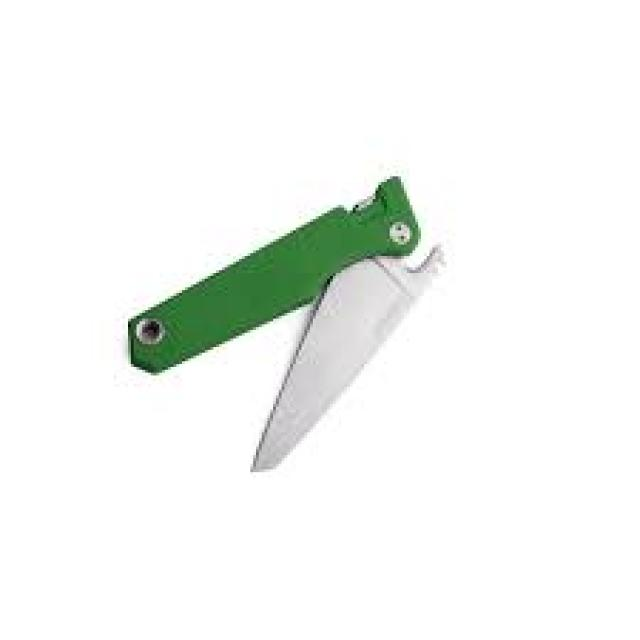knives: (227, 212, 566, 486)
